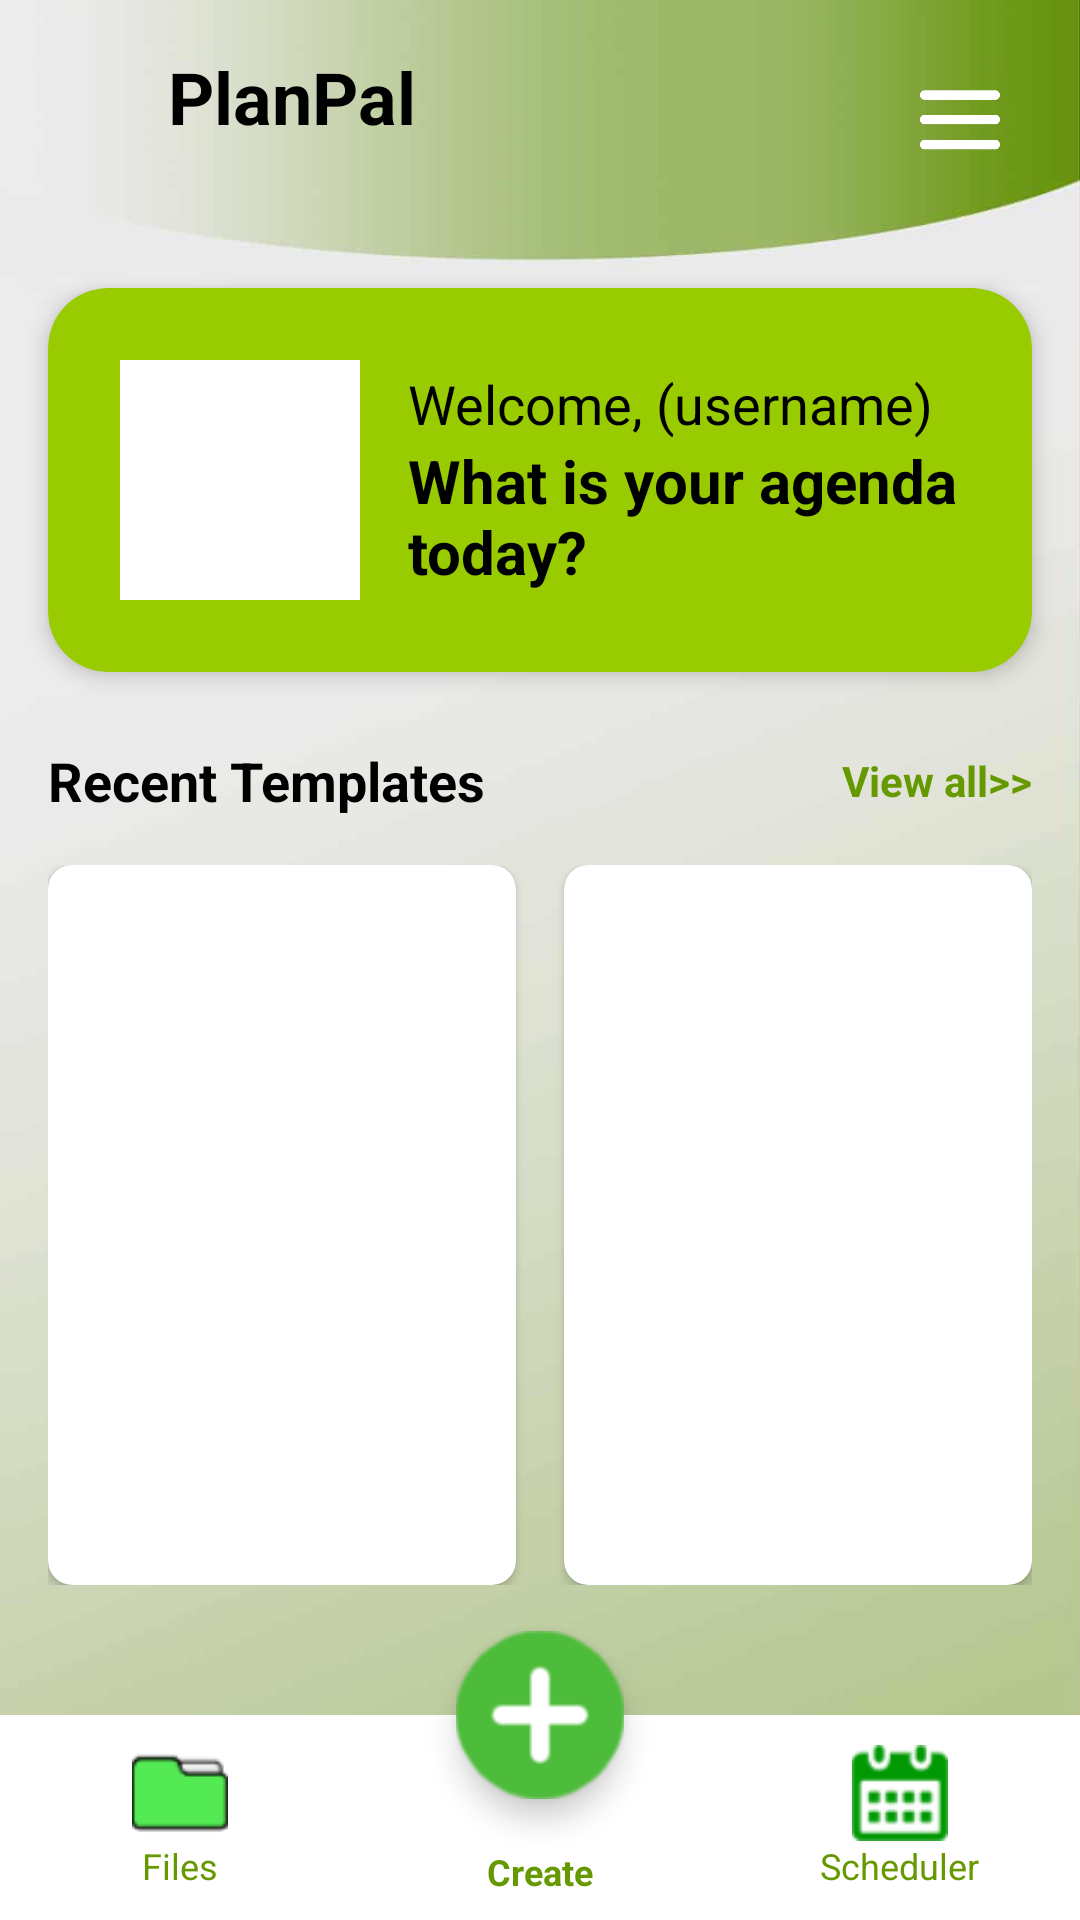

Named icons in this screenshot (1080w x 1920h) and their centers, point (x, y):
Menu: point (960, 120)
